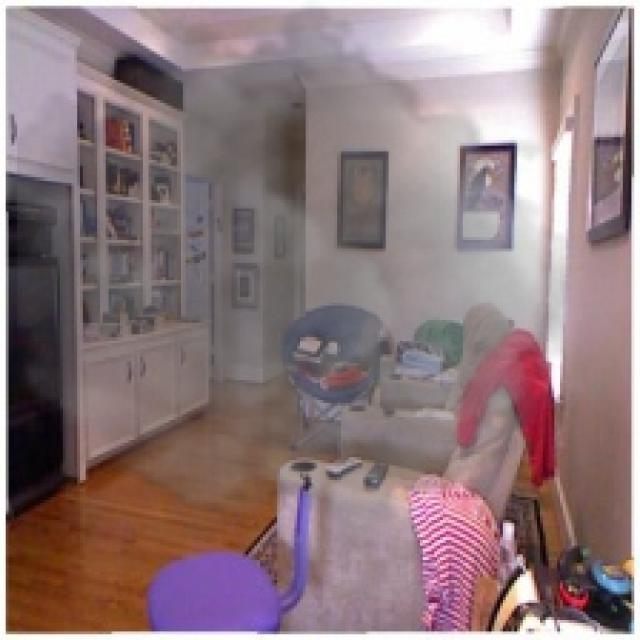Smoke: (17, 0, 566, 555)
